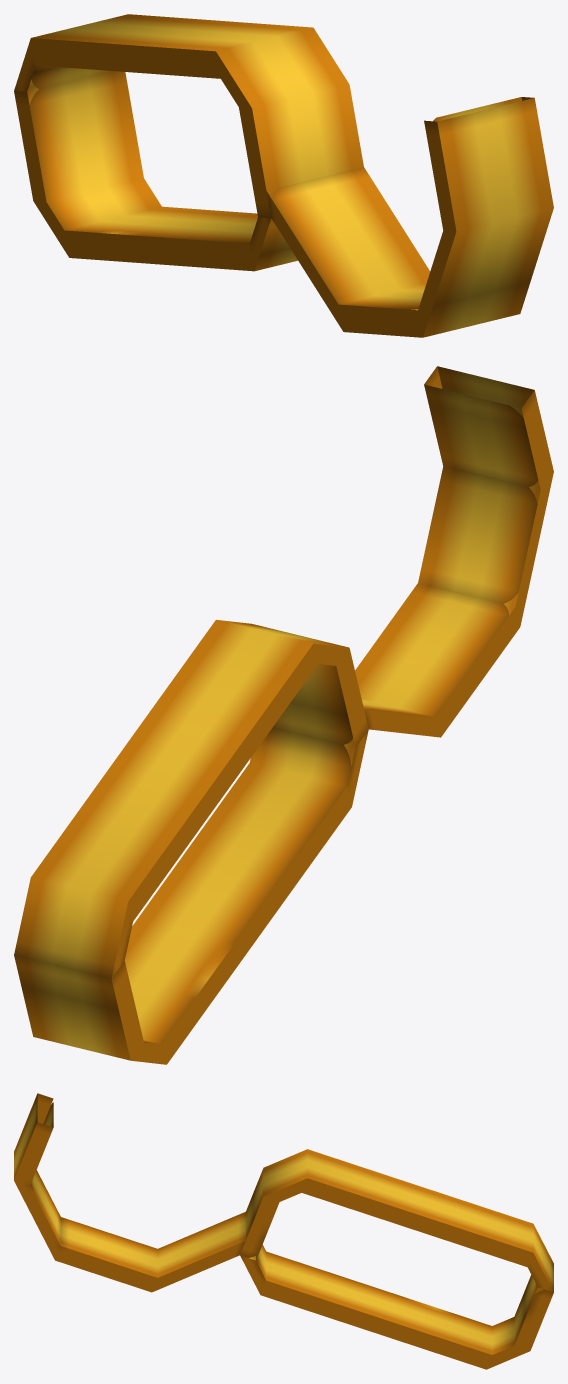
The model's file is henry_lever_lincoln.obj.
3 renders of one model, top to bottom at view 1: azimuth 30°, elevation 25°; view 2: azimuth 150°, elevation 25°; view 3: azimuth 270°, elevation 25°, orthographic. The views are drawn at different scales.
Visible parts, largest first — view 1: Lever; view 2: Lever; view 3: Lever.
Boxes of the visible parts, x1,y1,x2,y2 form: Lever: (14, 14, 553, 337); Lever: (14, 366, 553, 1064); Lever: (14, 1093, 553, 1369).
Bounding box in the file's own units: 0.25 × 0.9937 × 1.96.
